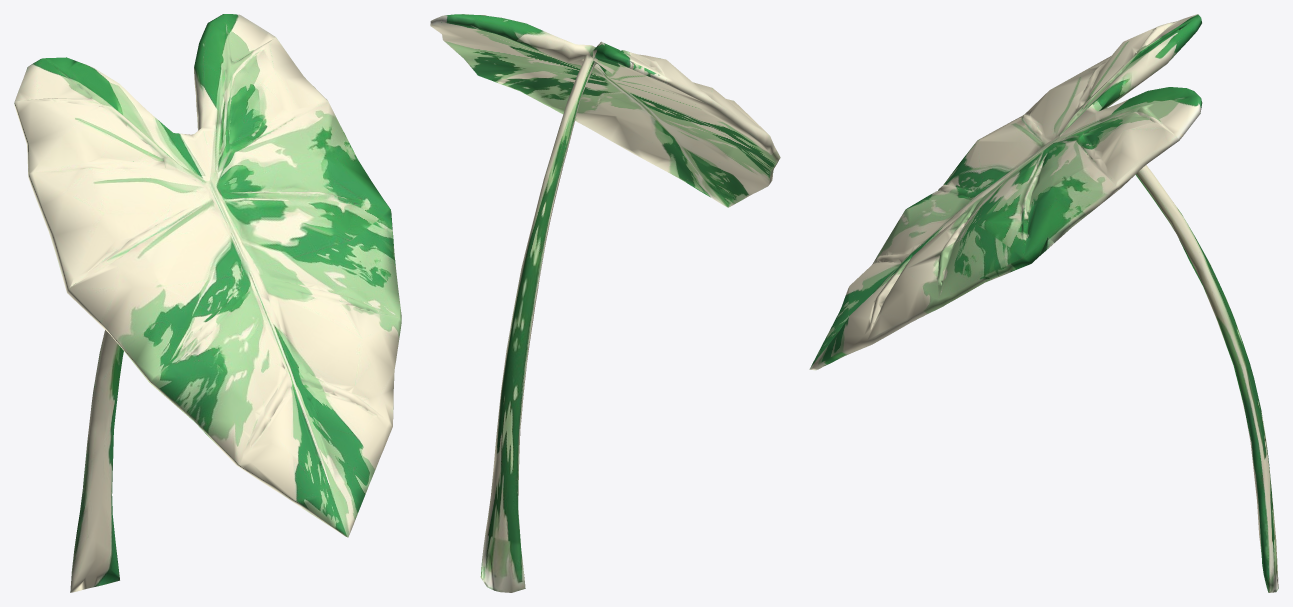
The model's file is al_leaf_mid_marble.glb.
The picture shows the model from 3 angles, left to right: view 1: azimuth 30°, elevation 25°; view 2: azimuth 150°, elevation 25°; view 3: azimuth 270°, elevation 25°; orthographic projection. The views are drawn at different scales.
Bounding box in the file's own units: 1.09 × 1.9 × 1.52.
Materials: 1 (1 with a texture image).
